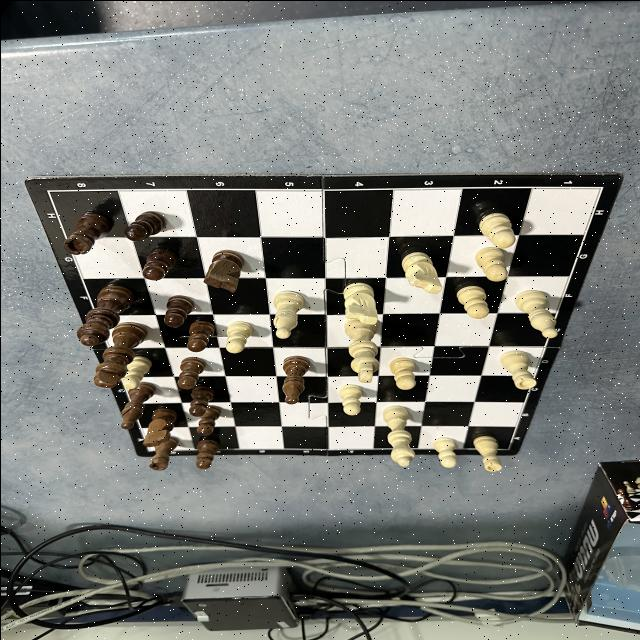Black-Bishop: (120, 381, 156, 428), (281, 354, 309, 404)
Black-King: (92, 320, 146, 388)
Black-Knight: (202, 248, 244, 292), (142, 406, 178, 446)
Black-Pawn: (122, 210, 164, 240), (141, 248, 177, 280), (162, 294, 194, 326), (176, 356, 206, 388), (186, 319, 214, 352), (195, 404, 221, 436), (188, 385, 214, 416), (195, 438, 219, 468)
Black-Queen: (76, 284, 132, 346)
Black-Rook: (62, 212, 110, 254), (148, 434, 178, 470)
White-Bishop: (513, 290, 557, 338), (272, 290, 304, 338)
White-King: (343, 316, 379, 382)
White-Knight: (400, 250, 442, 294), (342, 282, 377, 324)
White-Pawn: (478, 211, 514, 247), (455, 284, 489, 318), (475, 246, 507, 280), (122, 354, 152, 388), (388, 357, 416, 389), (225, 320, 252, 352), (338, 384, 362, 414), (432, 436, 456, 466)
White-Queen: (382, 404, 414, 466)
White-Rook: (498, 349, 536, 389), (472, 435, 502, 471)
